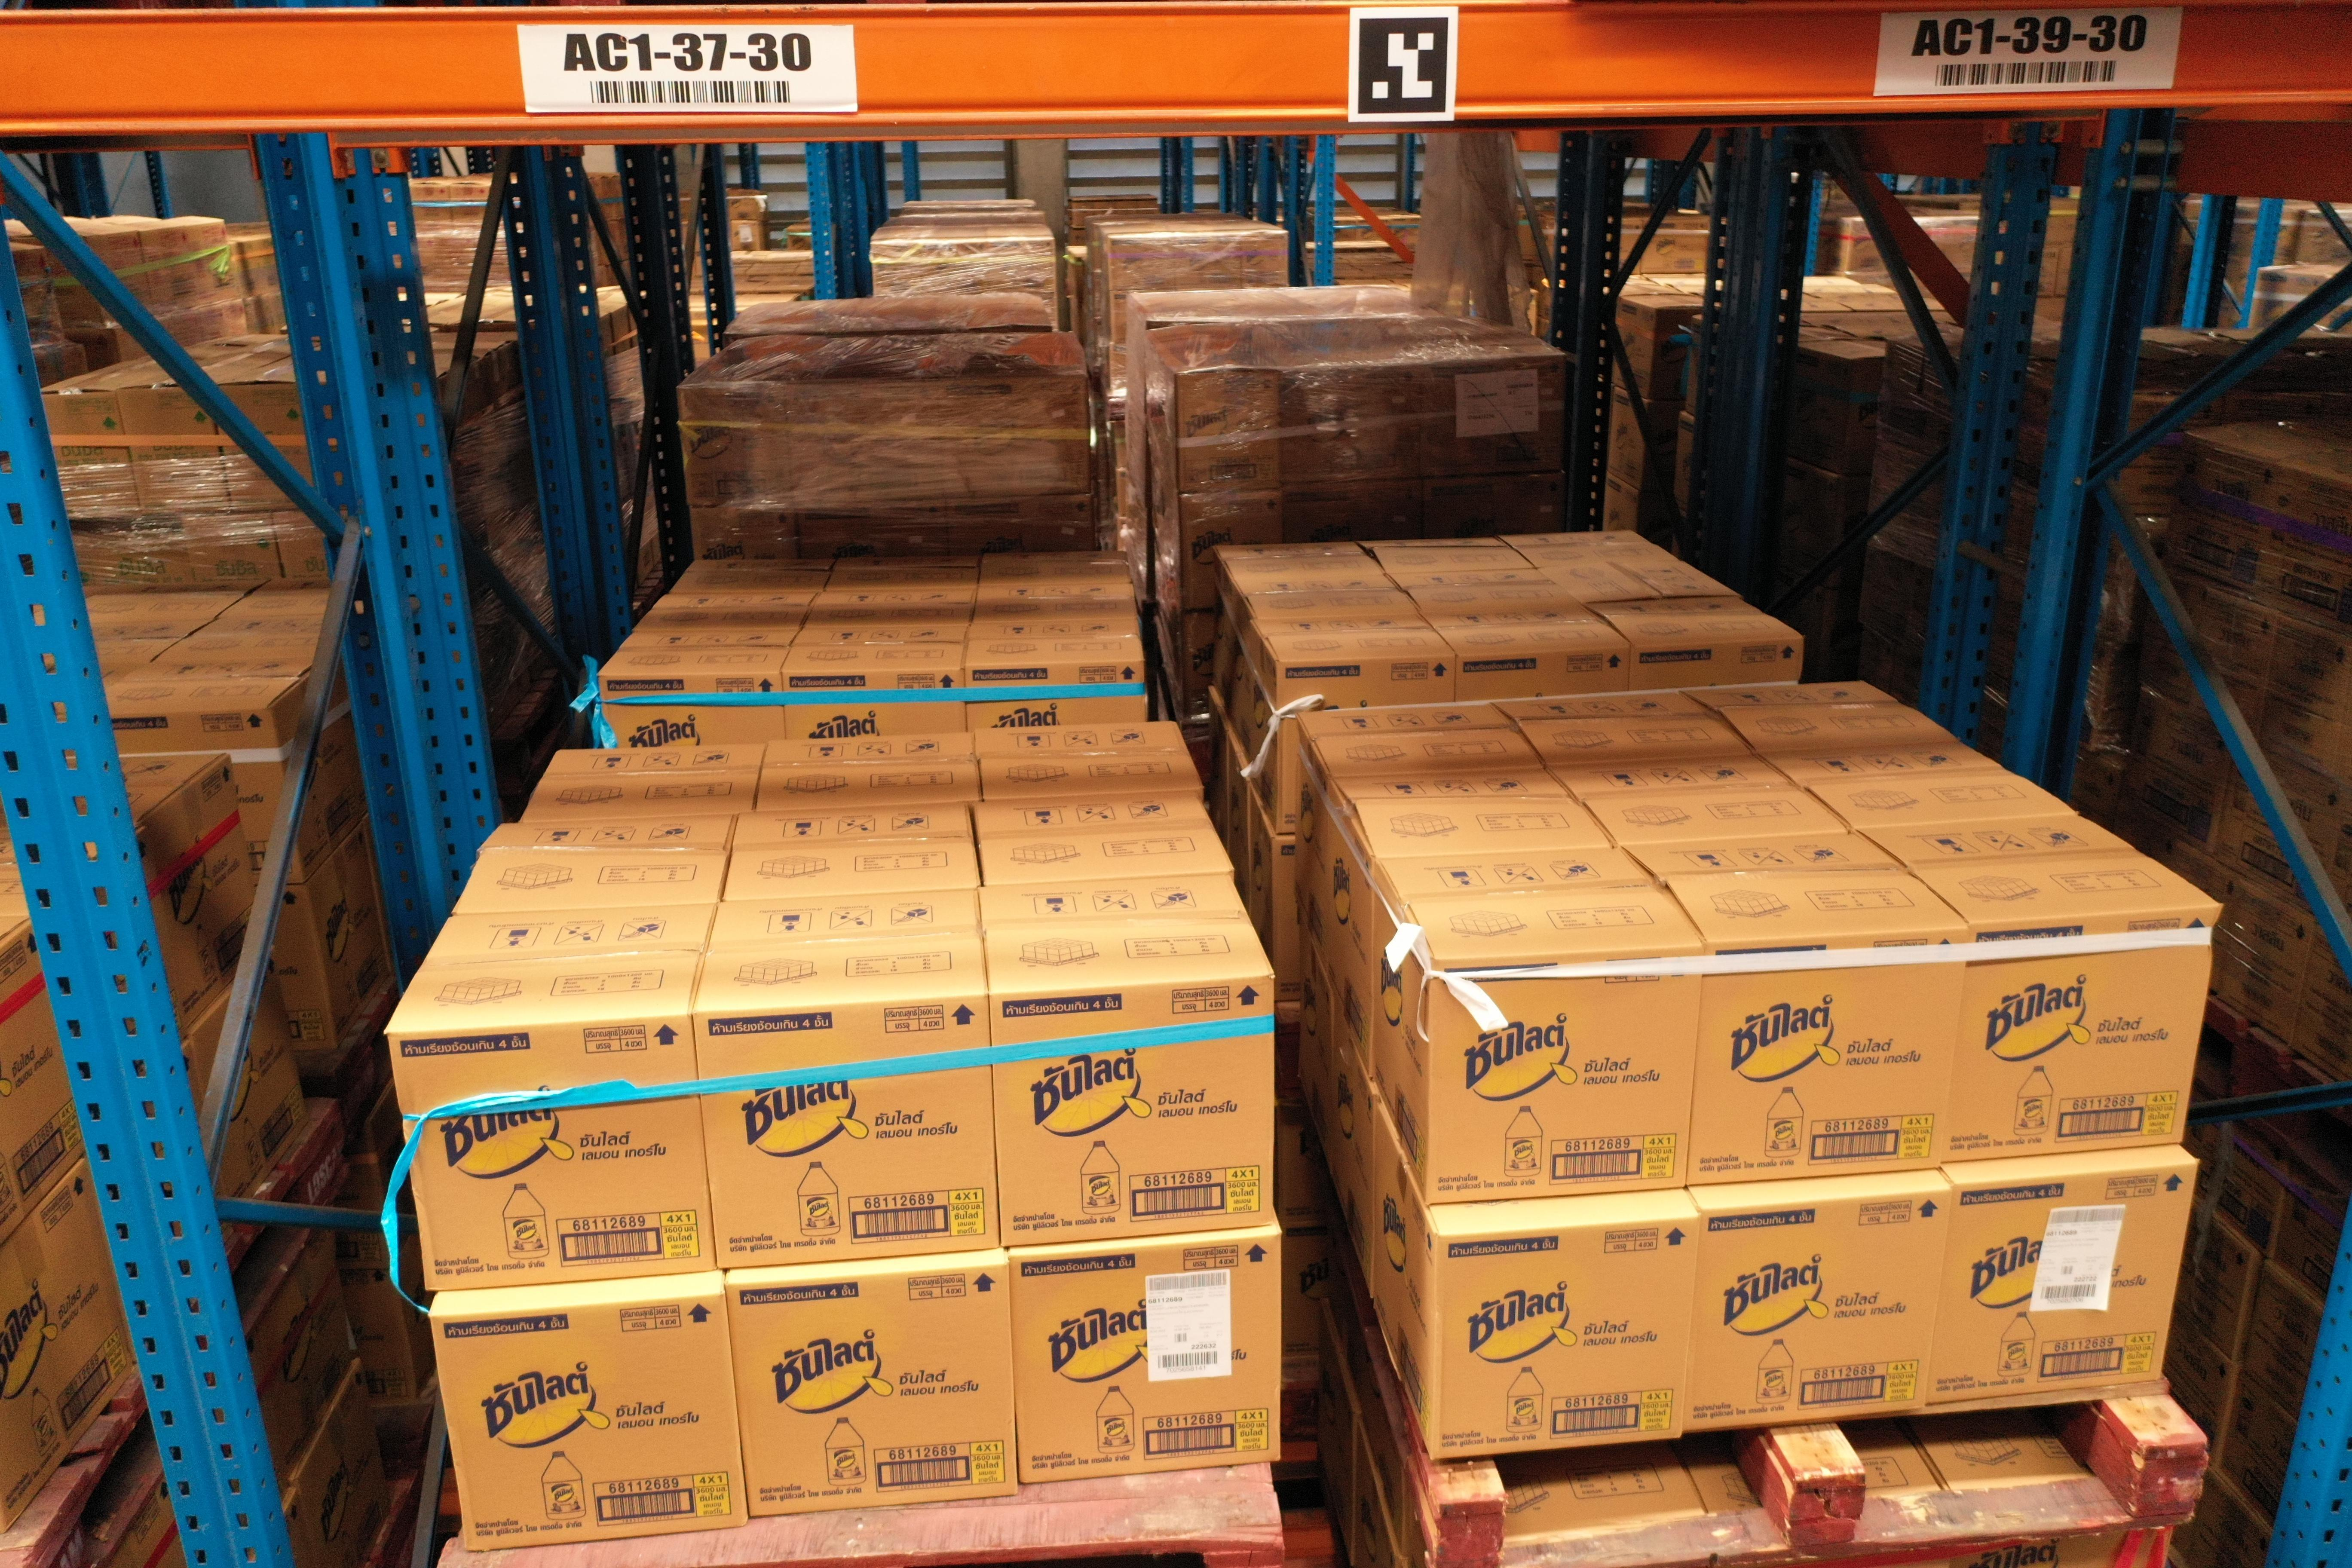-: (387, 1015, 716, 1295), (695, 994, 1003, 1269), (427, 1293, 751, 1552), (989, 975, 1274, 1244), (724, 1263, 1018, 1519), (1687, 933, 1972, 1186), (1942, 908, 2221, 1165), (1424, 952, 1706, 1204), (1010, 1234, 1281, 1486), (1431, 1216, 1699, 1456), (1687, 1192, 1955, 1430), (1930, 1164, 2200, 1398)
2: (784, 378, 945, 507), (940, 374, 1090, 499), (1277, 362, 1423, 486), (1421, 355, 1566, 478), (117, 381, 231, 520), (210, 381, 322, 518), (679, 385, 794, 507), (42, 388, 143, 520), (1179, 367, 1281, 495), (72, 520, 196, 595), (180, 514, 282, 583), (271, 509, 329, 579)
